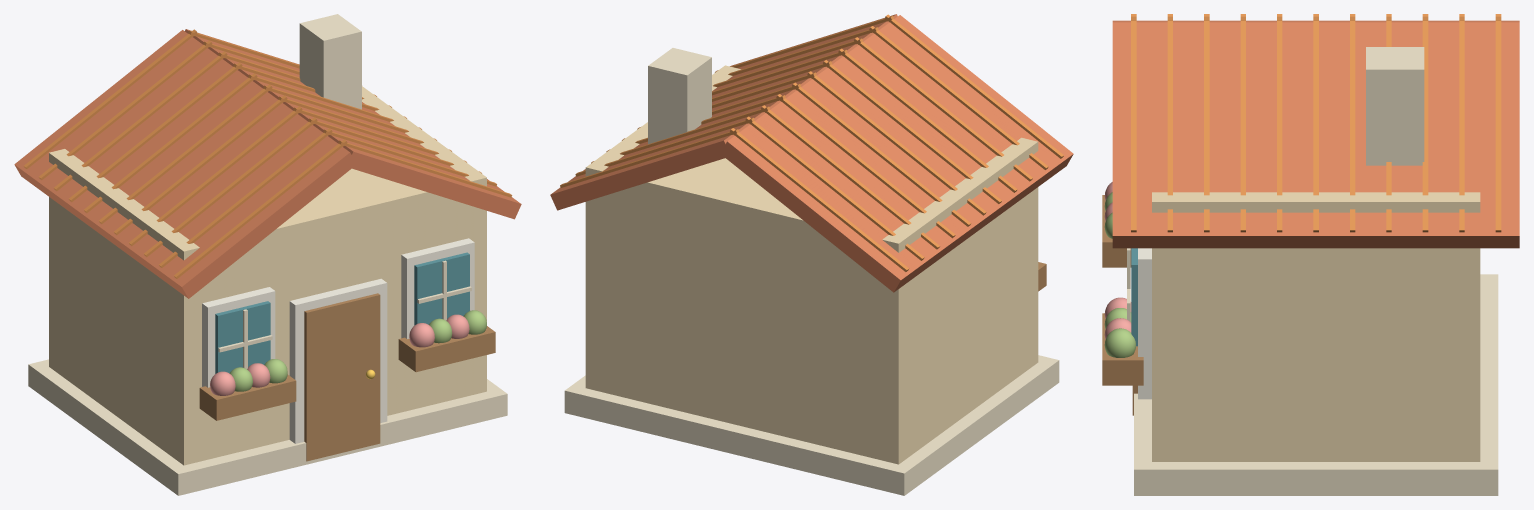
Rendered from house.glb.
The picture shows the model from 3 angles, left to right: view 1: azimuth 30°, elevation 25°; view 2: azimuth 150°, elevation 25°; view 3: azimuth 270°, elevation 25°; orthographic projection. The views are drawn at different scales.
Visible parts, largest first — view 1: Stucco, Terracotta roof, Foundation, Door, Terracotta roof.001, Chimney, Door frame, Window.001, Window, Window box, Window box.001, Window frame (+19 smaller); view 2: Stucco, Terracotta roof, Foundation, Terracotta roof.001, Chimney, Roof seam.010, Roof seam, Roof seam.007, Roof seam.005, Roof seam.002, Roof seam.004, Roof seam.008 (+11 smaller); view 3: Stucco, Terracotta roof.001, Foundation, Chimney, Window frame.001, Roof seam.021, Window box.001, Roof seam.011, Roof seam.013, Roof seam.016, Roof seam.020, Roof seam.012 (+9 smaller).
Boxes of the visible parts, <box> form: Stucco: <box>49,86,486,465</box>; Terracotta roof: <box>14,30,356,298</box>; Foundation: <box>28,359,507,495</box>; Door: <box>304,293,380,461</box>; Terracotta roof.001: <box>185,29,521,219</box>; Chimney: <box>299,14,361,109</box>; Door frame: <box>289,278,387,443</box>; Window.001: <box>414,252,469,325</box>; Window: <box>215,301,270,373</box>; Window box: <box>199,374,296,420</box>; Window box.001: <box>398,326,495,372</box>; Window frame: <box>202,287,275,387</box>; Stucco: <box>585,65,1038,464</box>; Terracotta roof: <box>720,15,1073,292</box>; Foundation: <box>564,355,1059,495</box>; Terracotta roof.001: <box>550,14,897,210</box>; Chimney: <box>648,48,711,144</box>; Roof seam.010: <box>730,128,908,271</box>; Roof seam: <box>885,14,1063,158</box>; Roof seam.007: <box>776,94,955,238</box>; Roof seam.005: <box>807,71,986,215</box>; Roof seam.002: <box>854,37,1032,181</box>; Roof seam.004: <box>823,60,1001,203</box>; Roof seam.008: <box>761,105,939,249</box>; Stucco: <box>1152,192,1480,461</box>; Terracotta roof.001: <box>1112,22,1519,248</box>; Foundation: <box>1134,274,1498,495</box>; Chimney: <box>1366,47,1424,165</box>; Window frame.001: <box>1138,248,1151,360</box>; Roof seam.021: <box>1495,14,1501,232</box>; Window box.001: <box>1102,313,1143,385</box>; Roof seam.011: <box>1131,14,1136,232</box>; Roof seam.013: <box>1204,14,1209,232</box>; Roof seam.016: <box>1313,14,1318,232</box>; Roof seam.020: <box>1459,14,1464,232</box>; Roof seam.012: <box>1167,14,1172,232</box>.
Size of the model in its own units: 3.92 by 3.61 by 3.43.
